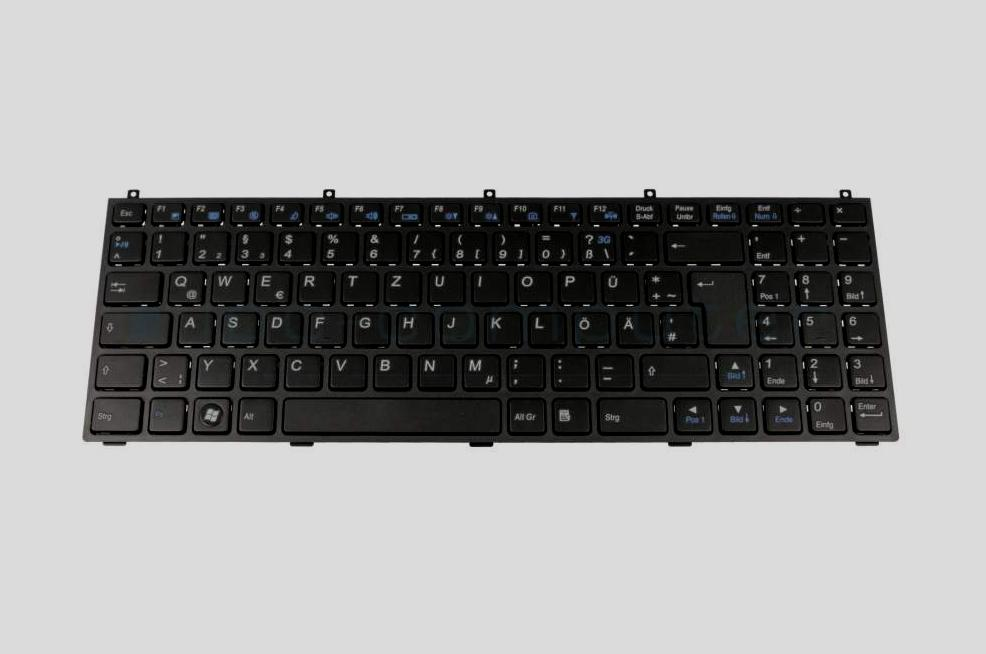0: (532, 227, 570, 262)
1: (147, 227, 184, 261)
2: (189, 228, 227, 261)
3: (232, 228, 269, 261)
4: (275, 228, 312, 261)
5: (317, 228, 355, 261)
6: (361, 228, 398, 261)
7: (404, 227, 441, 262)
8: (446, 228, 484, 262)
9: (489, 227, 526, 261)
a: (174, 308, 211, 343)
accent: (619, 228, 655, 261)
ae: (613, 308, 652, 345)
alt-left: (234, 394, 274, 432)
altgr-right: (504, 394, 544, 432)
b: (369, 350, 409, 387)
c: (281, 350, 320, 387)
caret: (105, 227, 142, 261)
comma: (503, 351, 543, 389)
d: (262, 308, 299, 344)
del: (662, 227, 740, 261)
e: (251, 267, 289, 302)
enter: (685, 267, 746, 345)
f: (305, 308, 343, 344)
g: (349, 308, 387, 344)
h: (393, 308, 431, 344)
hash: (657, 307, 694, 344)
i: (468, 268, 506, 302)
j: (437, 308, 474, 344)
k: (482, 308, 519, 344)
keyboard: (75, 190, 906, 445)
l: (526, 308, 563, 344)
less: (148, 350, 187, 387)
m: (458, 350, 498, 388)
minus: (592, 350, 632, 388)
n: (414, 350, 454, 388)
o: (511, 267, 549, 302)
oe: (569, 308, 608, 344)
p: (555, 267, 592, 302)
plus: (641, 267, 679, 302)
point: (548, 351, 588, 388)
q: (164, 267, 202, 302)
r: (294, 267, 332, 302)
s: (218, 308, 255, 343)
shift-left: (91, 350, 142, 387)
shift-lock: (97, 307, 168, 344)
shift-right: (637, 349, 706, 387)
space: (279, 393, 500, 433)
ss: (576, 229, 614, 261)
strg-left: (86, 393, 140, 431)
strg-right: (597, 397, 671, 435)
t: (338, 267, 375, 302)
tab: (101, 266, 158, 301)
u: (424, 268, 462, 303)
ue: (598, 267, 636, 302)
v: (326, 350, 365, 388)
w: (208, 267, 245, 302)
x: (237, 350, 276, 387)
y: (193, 350, 231, 387)
z: (381, 267, 419, 302)
